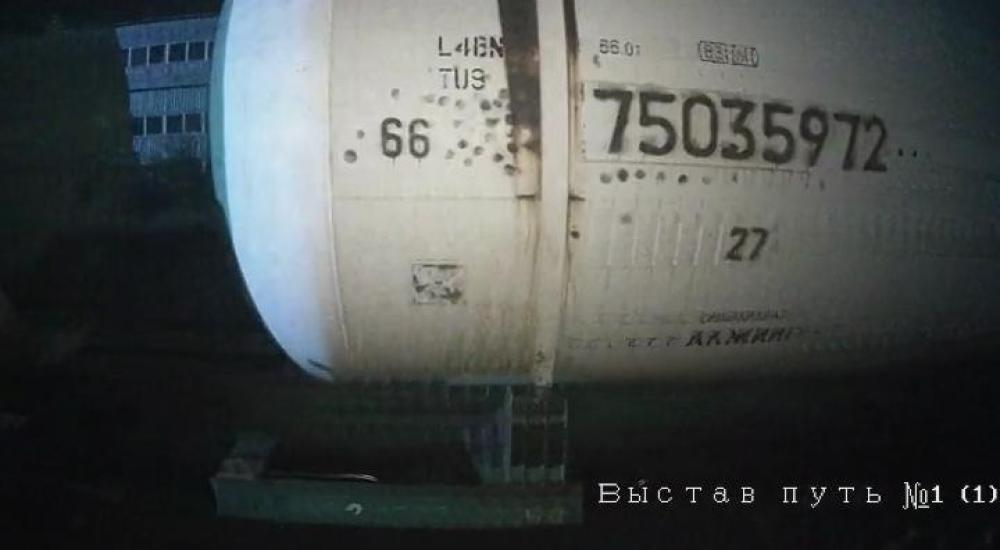Wagon-number: (590, 84, 891, 178)
